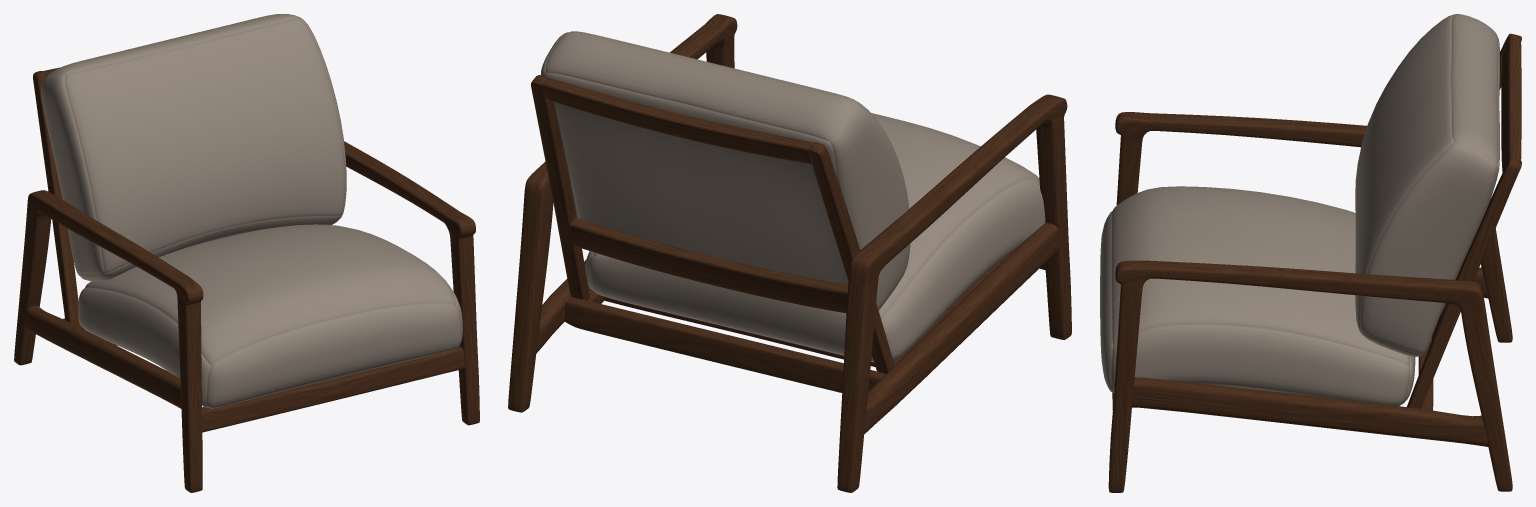
The model's file is lounge-sofa.glb.
3 views of the same model, side by side, from view 1: azimuth 30°, elevation 25°; view 2: azimuth 150°, elevation 25°; view 3: azimuth 270°, elevation 25° (orthographic). The views are drawn at different scales.
Visible parts, largest first — view 1: mesh; view 2: mesh; view 3: mesh.
Part boxes in pixels (<box>): mesh: <box>14,14,479,492</box>; mesh: <box>508,14,1071,492</box>; mesh: <box>1100,14,1521,492</box>.
Bounding box in the file's own units: 0.7263 × 0.7227 × 0.8142.
1 material, 1 textured.
